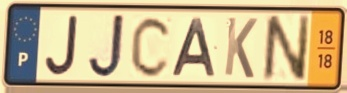A: (170, 16, 219, 79)
C: (128, 13, 174, 80)
J: (86, 11, 128, 81), (44, 13, 81, 78)
K: (222, 14, 260, 81)
N: (261, 12, 313, 84)
